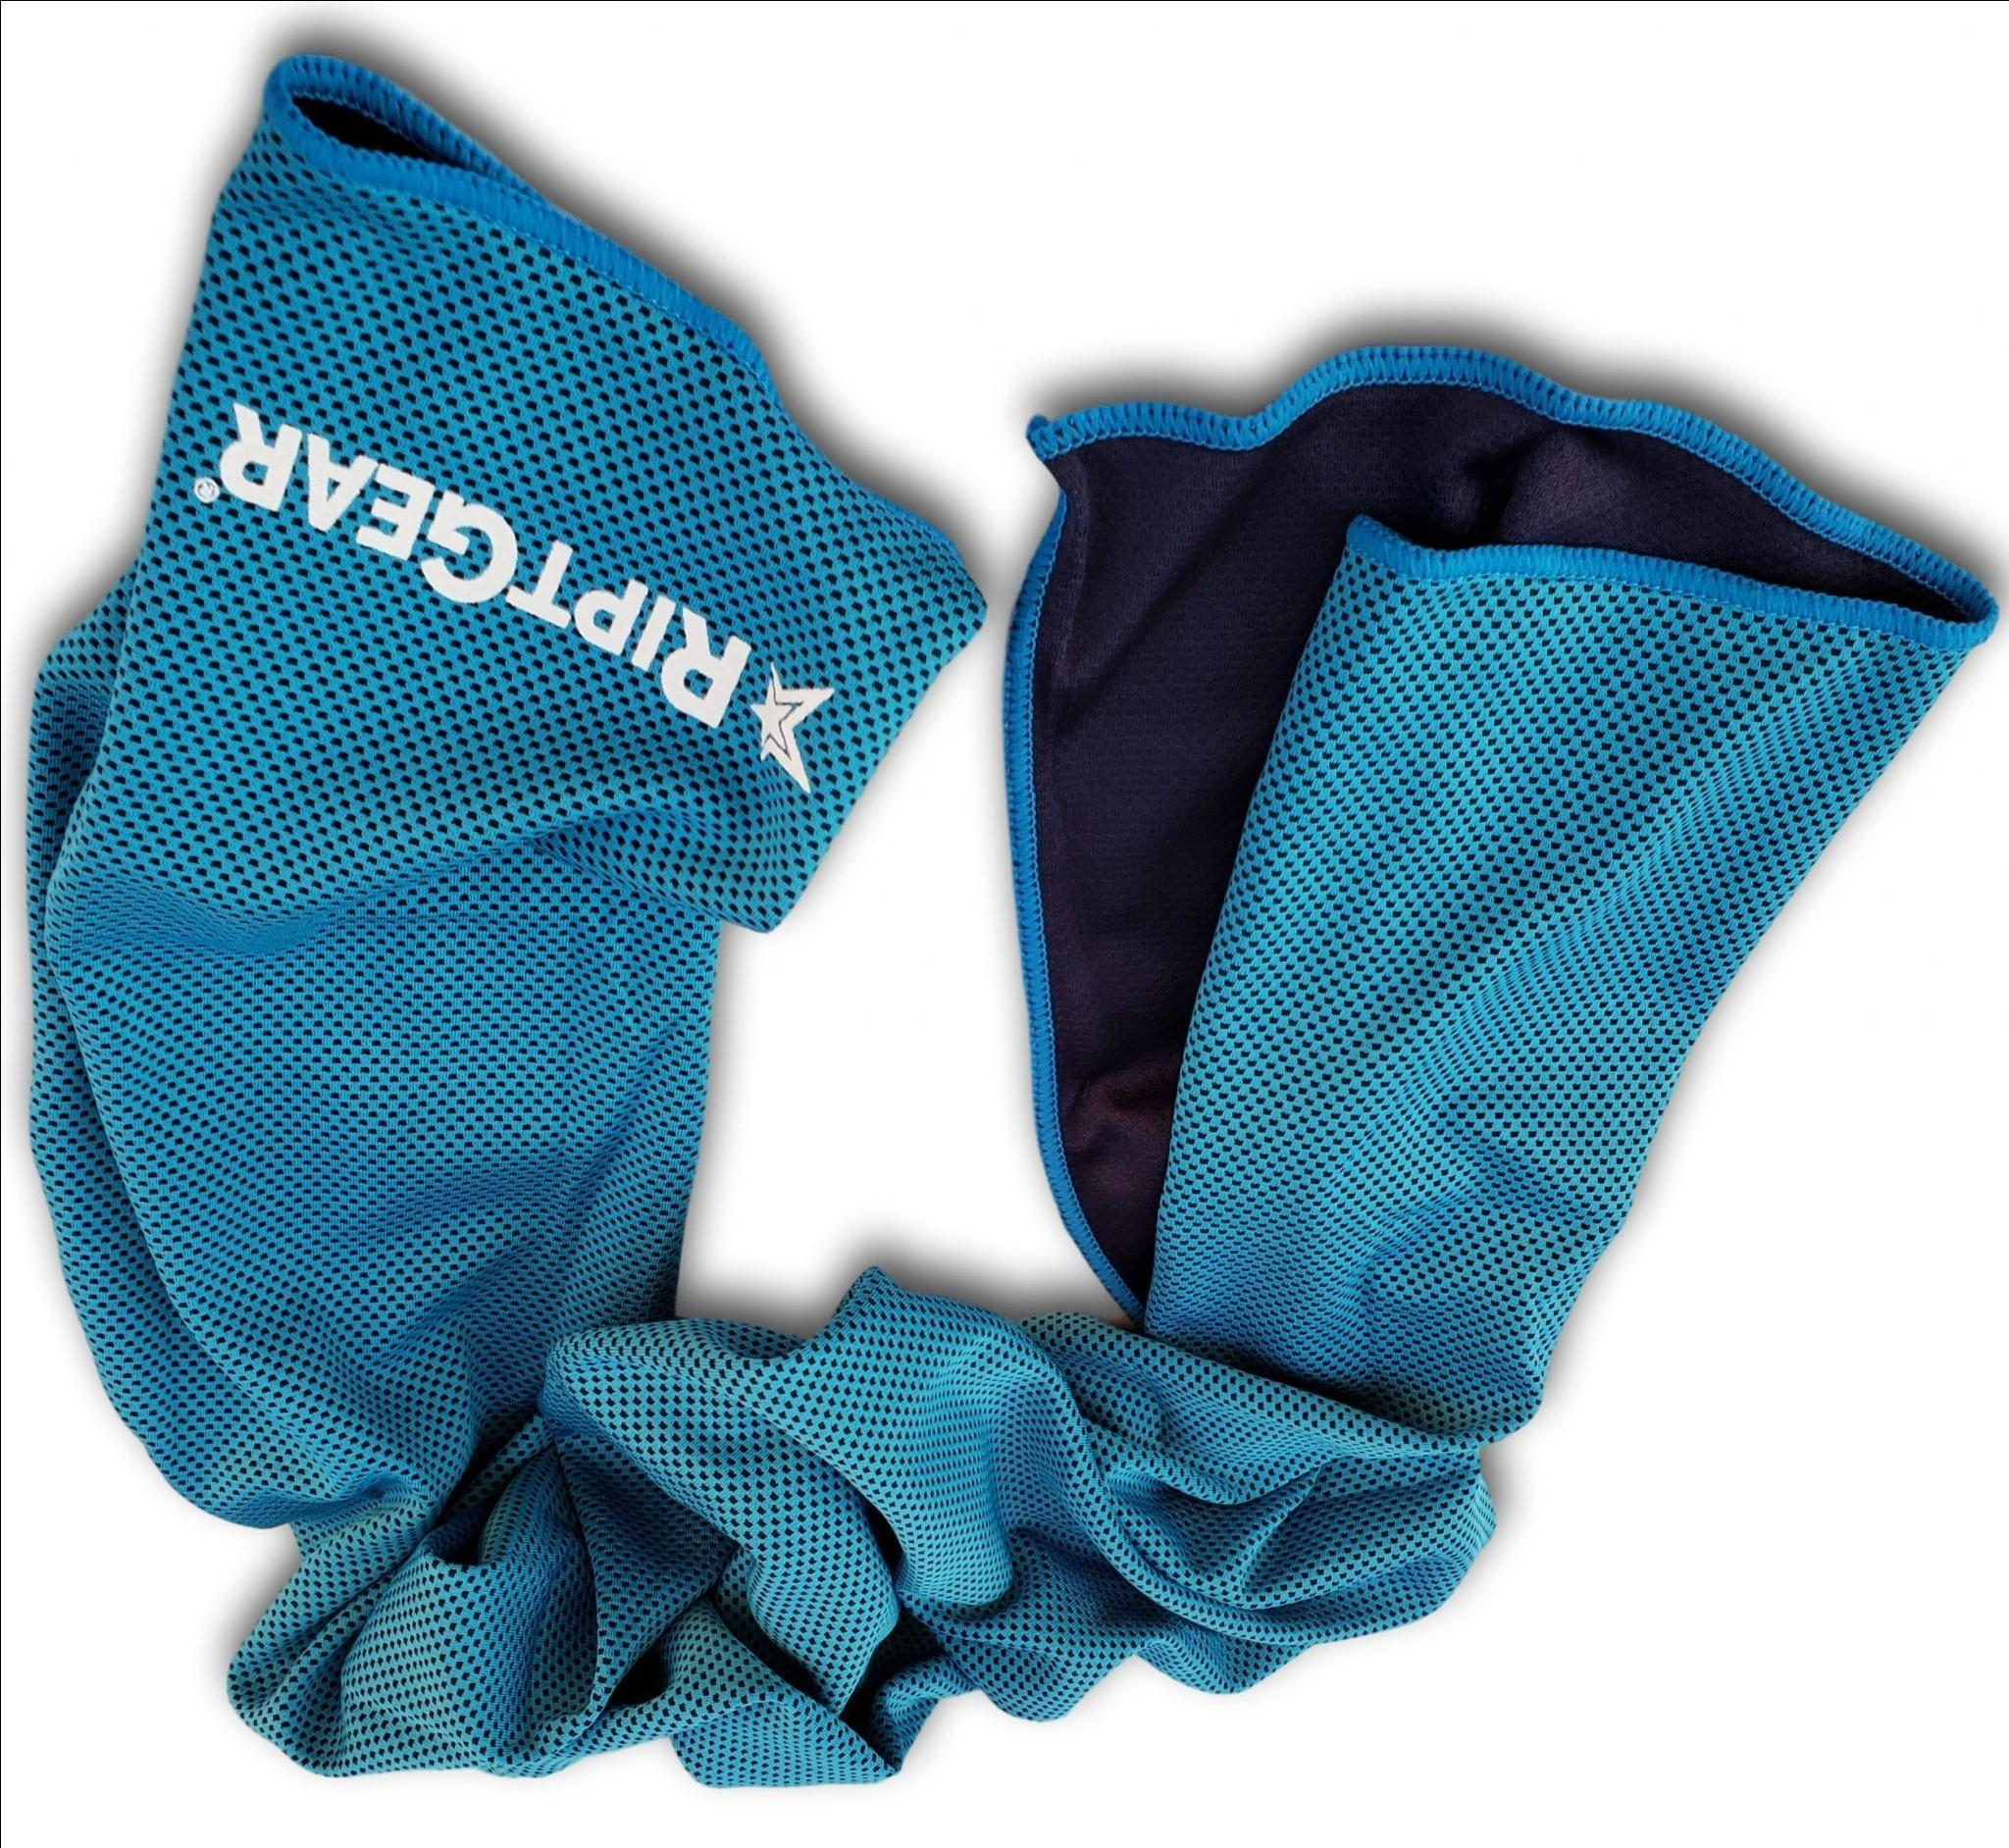towel: (0, 10, 2009, 1848)
